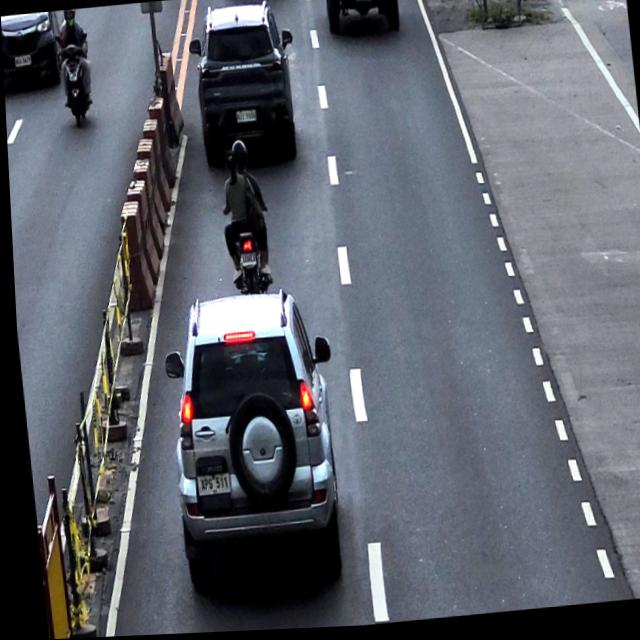Car: (154, 287, 348, 594), (184, 0, 303, 171), (1, 12, 60, 94), (323, 0, 401, 40)
License-Plate: (191, 471, 228, 498), (233, 109, 256, 126), (237, 252, 255, 271), (13, 53, 32, 68), (355, 0, 373, 7)
Motorcycle: (220, 207, 271, 299), (54, 33, 96, 129)
